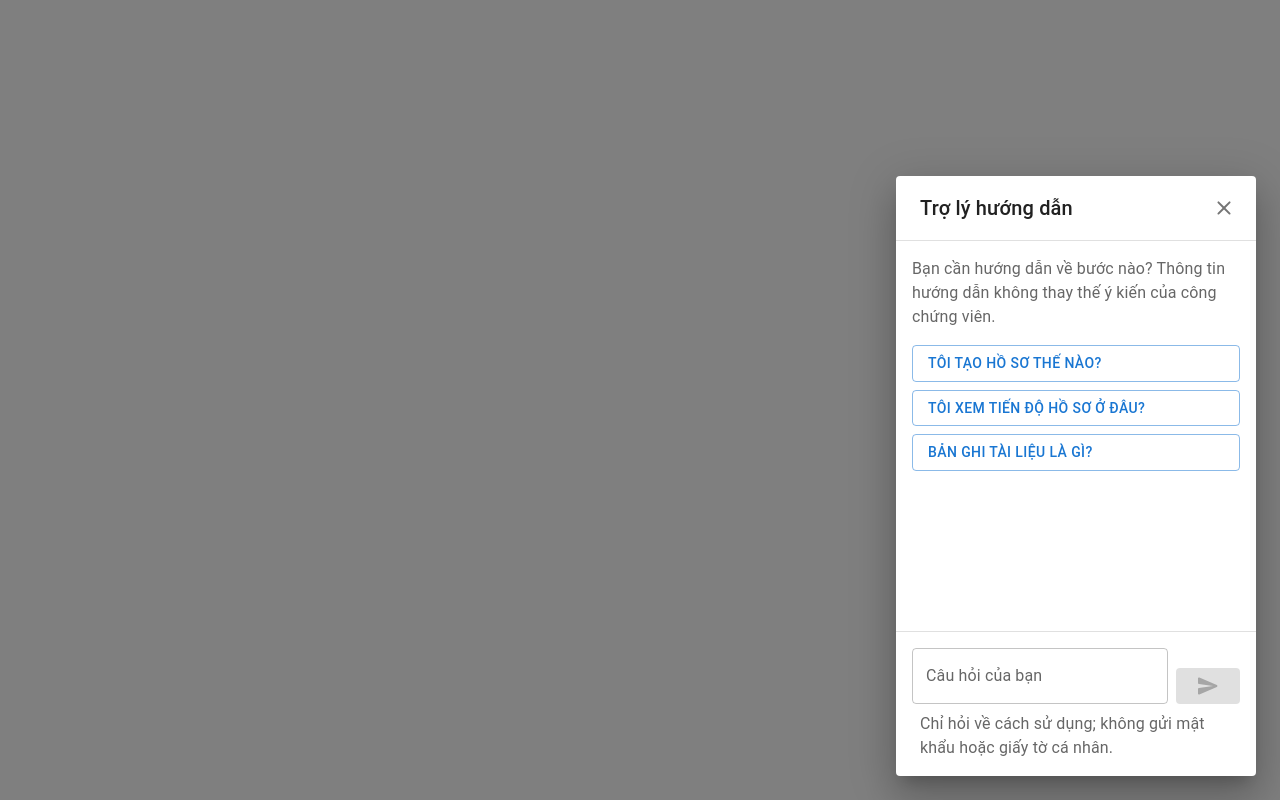
Test: Chatbox Component › Display Tests › scrolls to bottom when new message is added
Type "test message" into the text box with placeholder "Nhập tin nhắn..." at (1040, 676), box [926,664,1154,688]
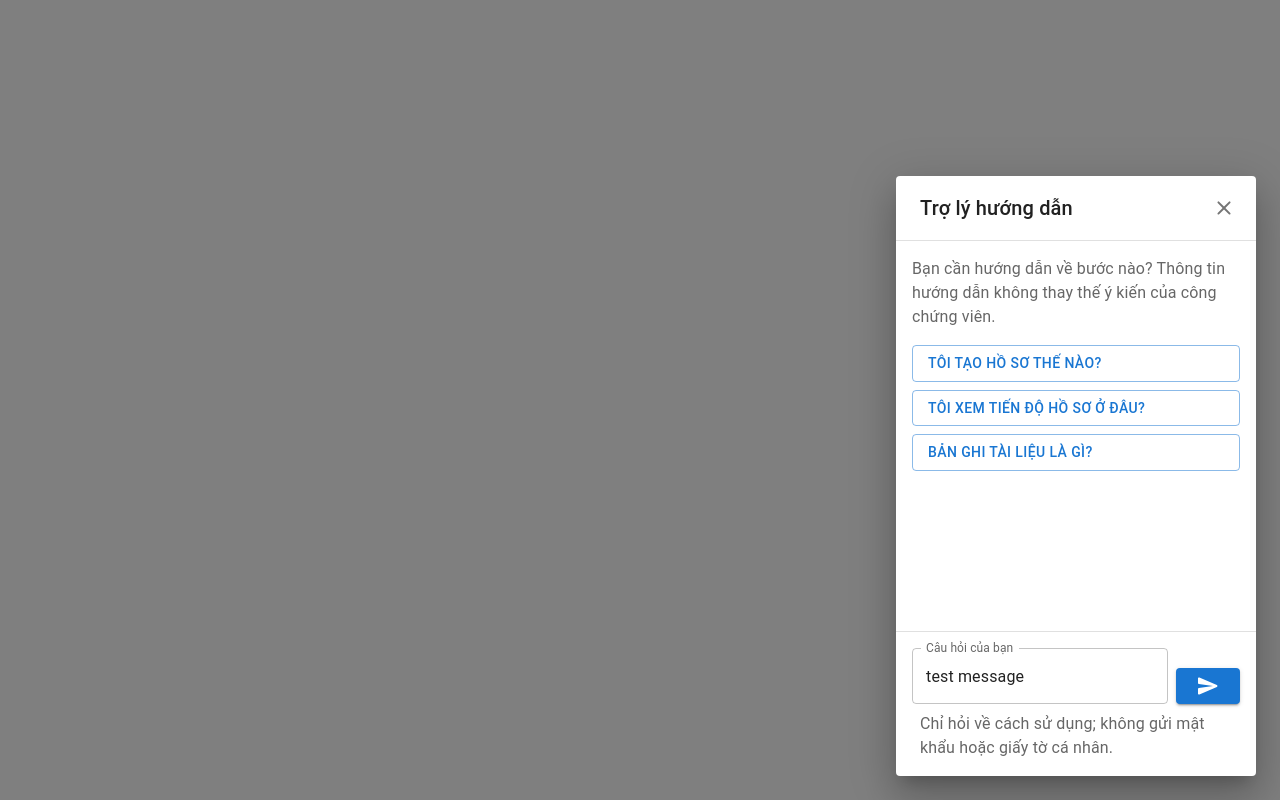
Click the button with test id "send-button" at (1208, 686), box [1176,668,1240,704]
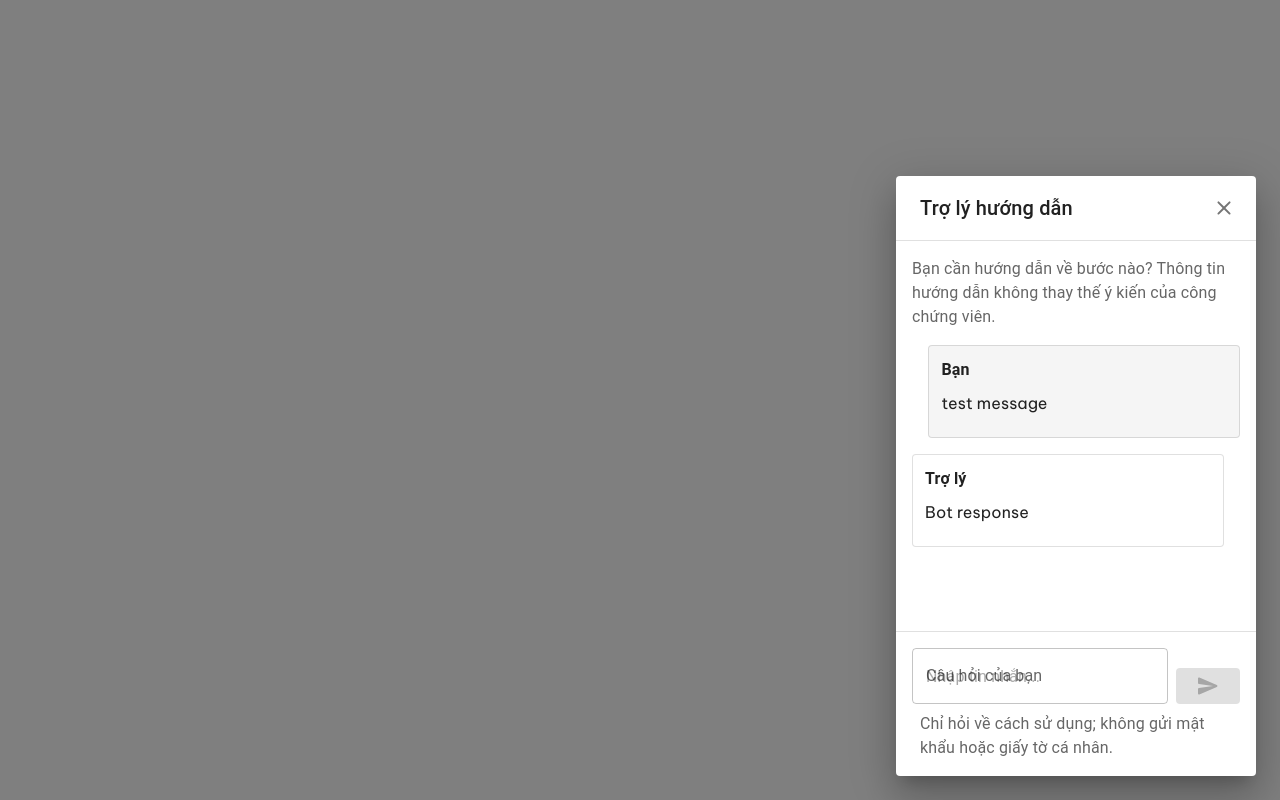
Expected: the text "Bot response" is shown, [925,502,1029,522]
